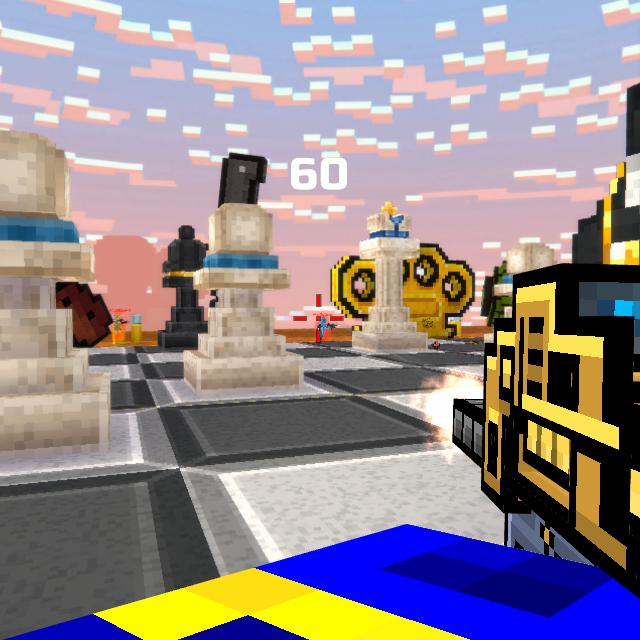Enemy: (316, 316, 331, 340)
